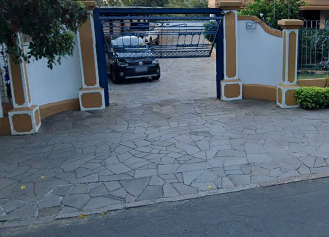vag47: (40, 145, 304, 234)
